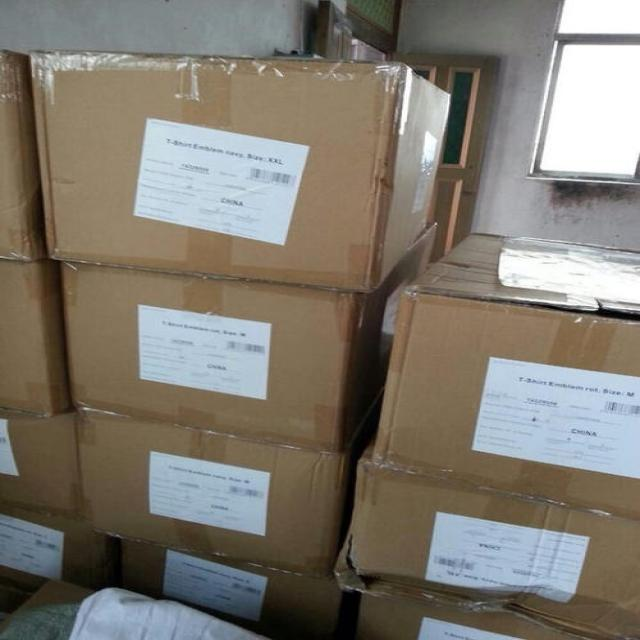box: (27, 50, 452, 292), (57, 224, 436, 455), (372, 230, 639, 520), (78, 380, 388, 576), (337, 463, 639, 639), (121, 534, 342, 638), (347, 585, 586, 639), (0, 259, 75, 418), (0, 53, 52, 259), (0, 504, 112, 594), (0, 406, 82, 523)
